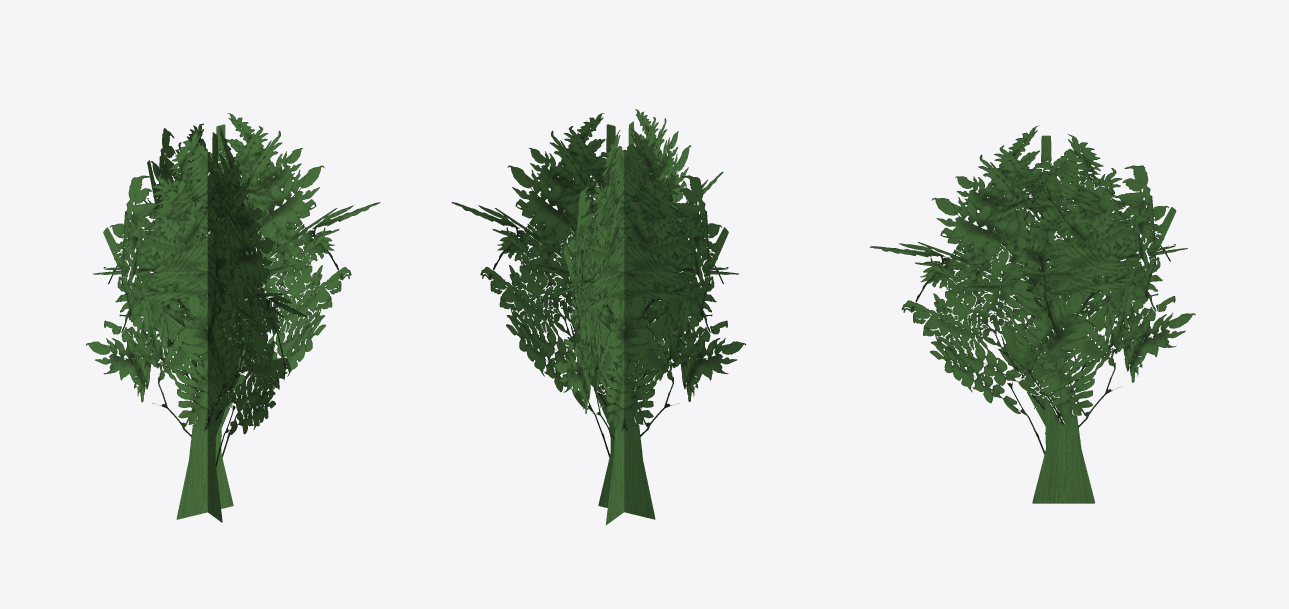
The model's file is orchard-far.glb.
3 renders of one model, left to right at view 1: azimuth 30°, elevation 25°; view 2: azimuth 150°, elevation 25°; view 3: azimuth 270°, elevation 25°, orthographic. The views are drawn at different scales.
Visible parts, largest first — view 1: tree_d.png__; view 2: tree_d.png__; view 3: tree_d.png__.
Boxes of the visible parts, x1,y1,x2,y2 form: tree_d.png__: [86, 113, 380, 522]; tree_d.png__: [451, 109, 745, 524]; tree_d.png__: [870, 125, 1195, 503].
Size of the model in its own units: 13.34 by 13.73 by 13.34.
1 material, 1 textured.
